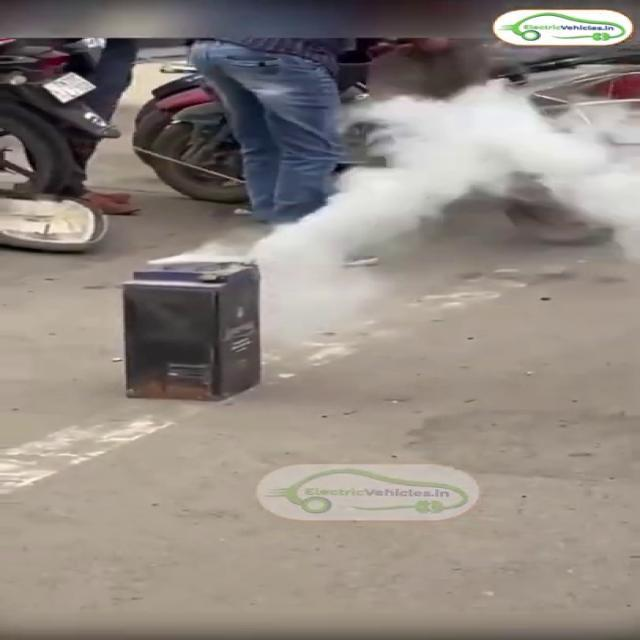Smoke: (268, 59, 640, 260)
